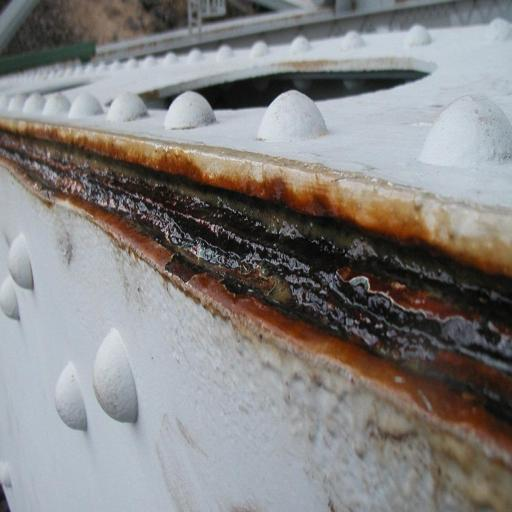segmentation: (0, 144, 512, 379), (0, 119, 512, 278), (187, 274, 512, 460), (119, 223, 171, 265)
